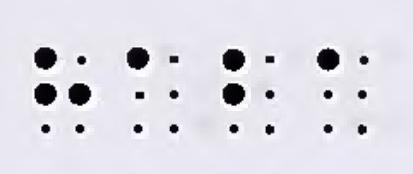a: (127, 46, 181, 141), (316, 49, 371, 137)
b: (221, 49, 275, 134)
h: (36, 44, 91, 136)
